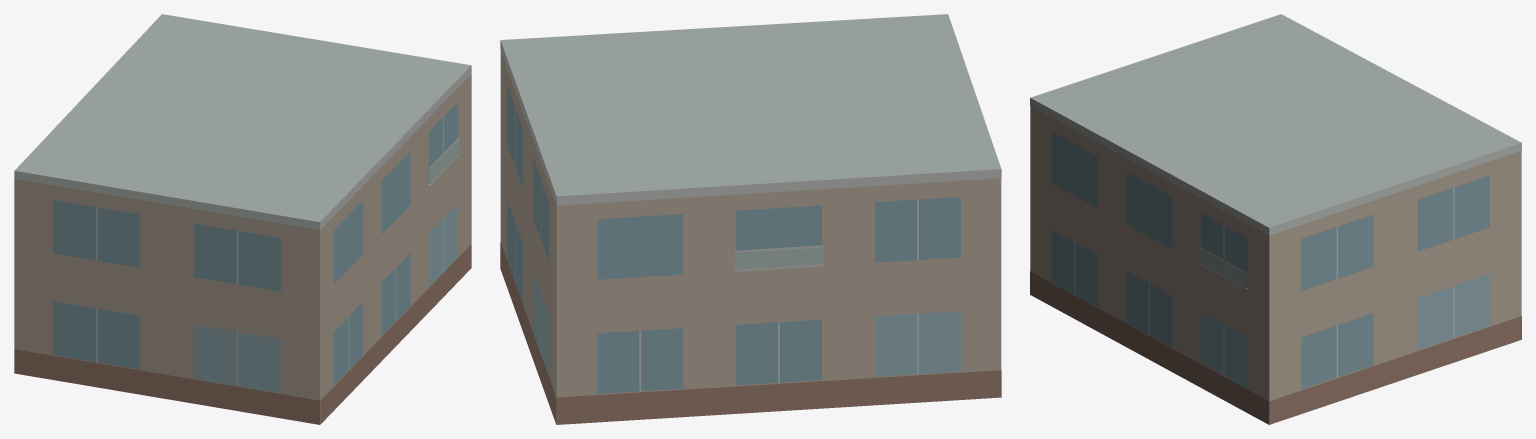
Rendered from survey-upis-32662250.glb.
3 views of the same model, side by side, from view 1: azimuth 30°, elevation 25°; view 2: azimuth 150°, elevation 25°; view 3: azimuth 270°, elevation 25° (orthographic). The views are drawn at different scales.
Visible parts, largest first — view 1: survey-upis-32662250.tmp; view 2: survey-upis-32662250.tmp; view 3: survey-upis-32662250.tmp.
Boxes of the visible parts, <box> form: survey-upis-32662250.tmp: <box>14,14,471,424</box>; survey-upis-32662250.tmp: <box>500,14,1001,424</box>; survey-upis-32662250.tmp: <box>1030,14,1521,424</box>.
Bounding box in the file's own units: 14.21 × 6.1 × 13.8.
